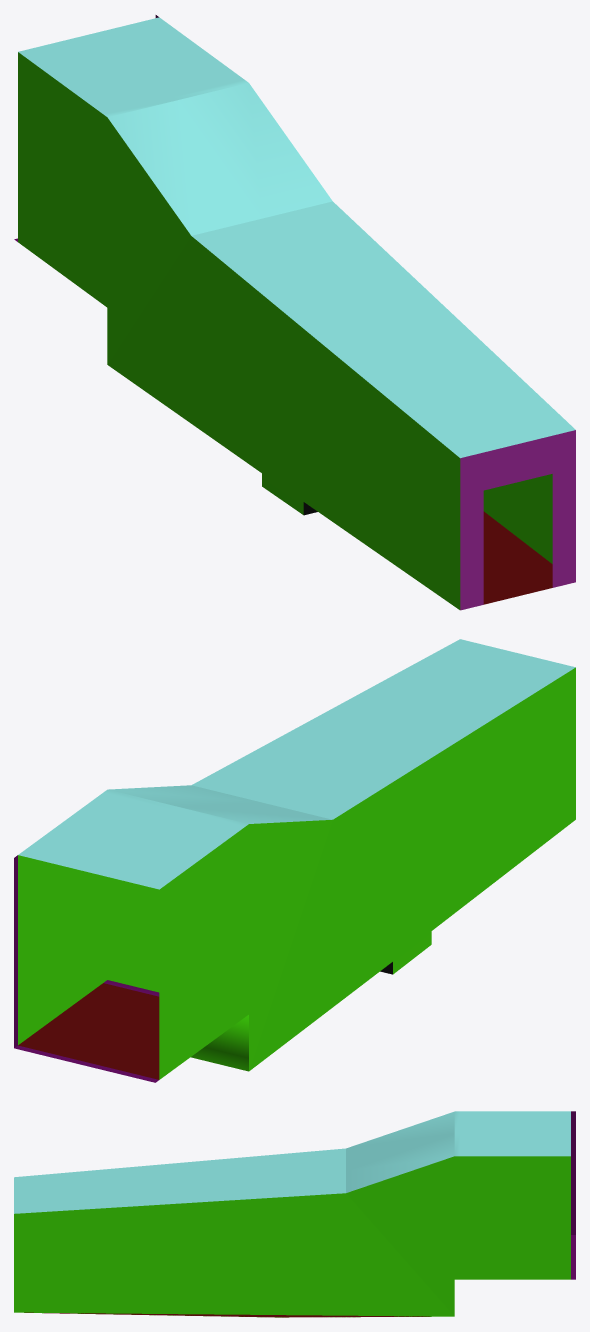
Rendered from Corridor_Room_v1.2.fbx.
3 renders of one model, top to bottom at view 1: azimuth 30°, elevation 25°; view 2: azimuth 150°, elevation 25°; view 3: azimuth 270°, elevation 25°, orthographic. The views are drawn at different scales.
Visible parts, largest first — view 1: Corridor_R10; view 2: Corridor_R10; view 3: Corridor_R10.
Part boxes in pixels (x1,y1,x2,y2): Corridor_R10: (14,15,575,610); Corridor_R10: (14,639,575,1082); Corridor_R10: (14,1111,575,1317).
Bounding box in the file's own units: 396 × 686 × 2063.
